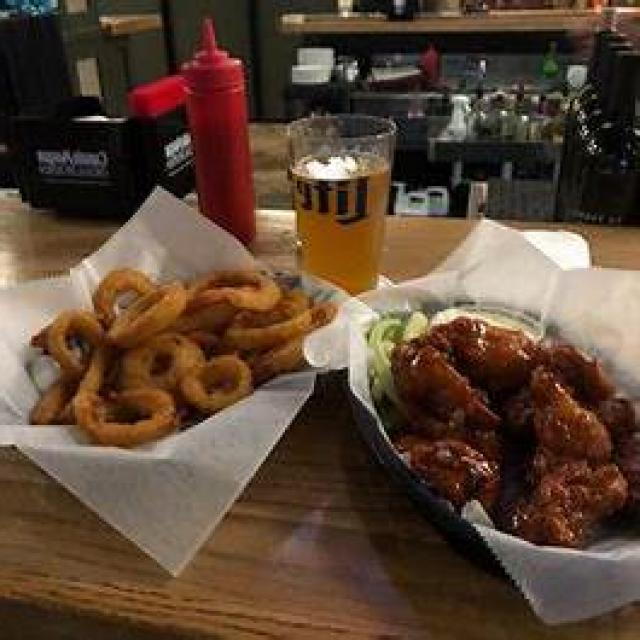Chicken Wings: (380, 308, 638, 556)
Onion Rings: (19, 251, 346, 454)
